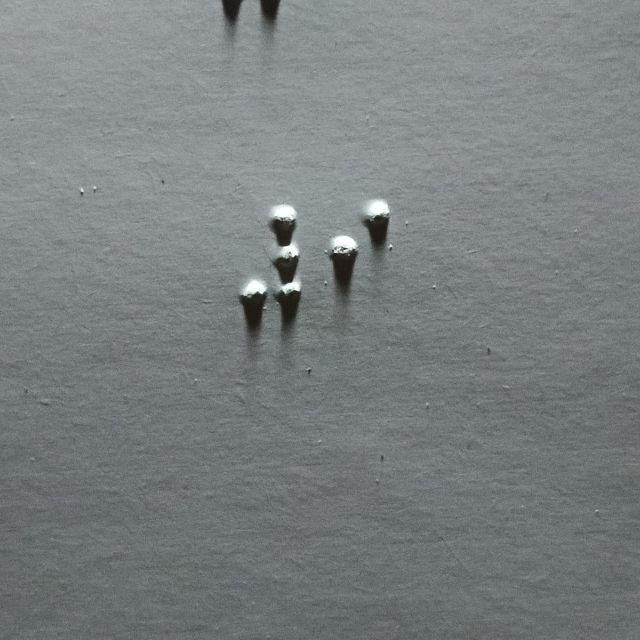9: (327, 201, 389, 306)
number: (242, 207, 304, 313)
